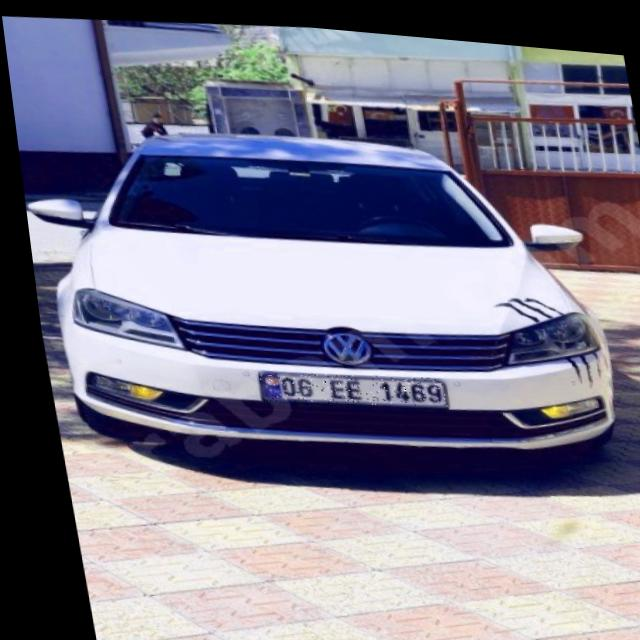license_plate: (247, 357, 439, 410)
